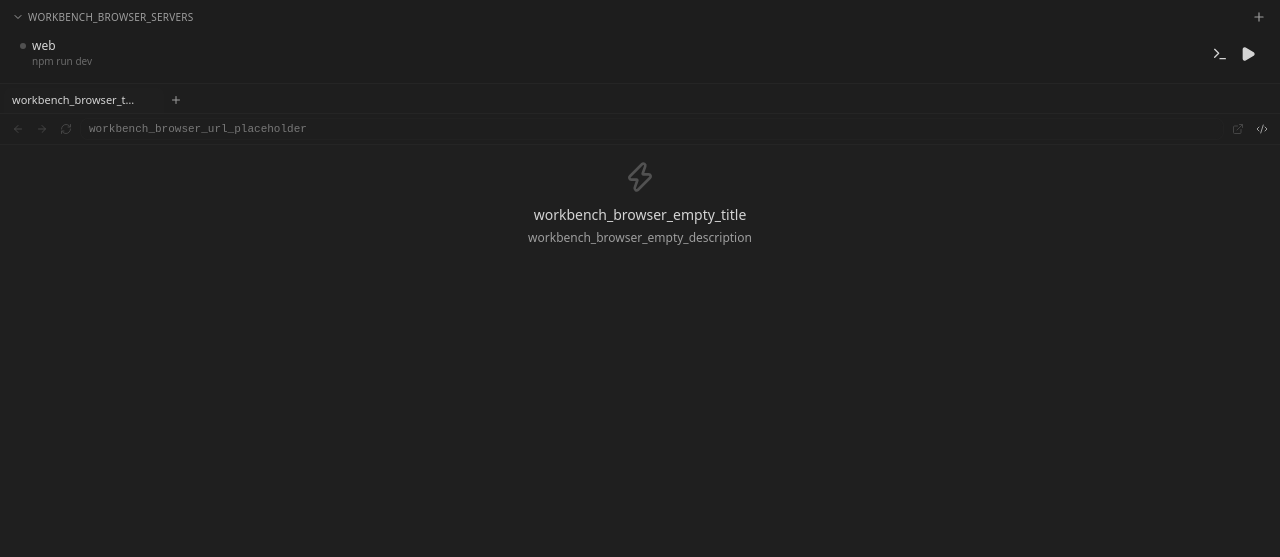
Scenario: BrowserTab — servidores de dev (paridade com o antigo Preview) › servidor nunca iniciado mostra estado vazio específico do console, não erro
The image size is (1280, 557).
Click the button titled "workbench_browser_console": (1220, 54) top-left (1208, 42), bottom-right (1232, 66)
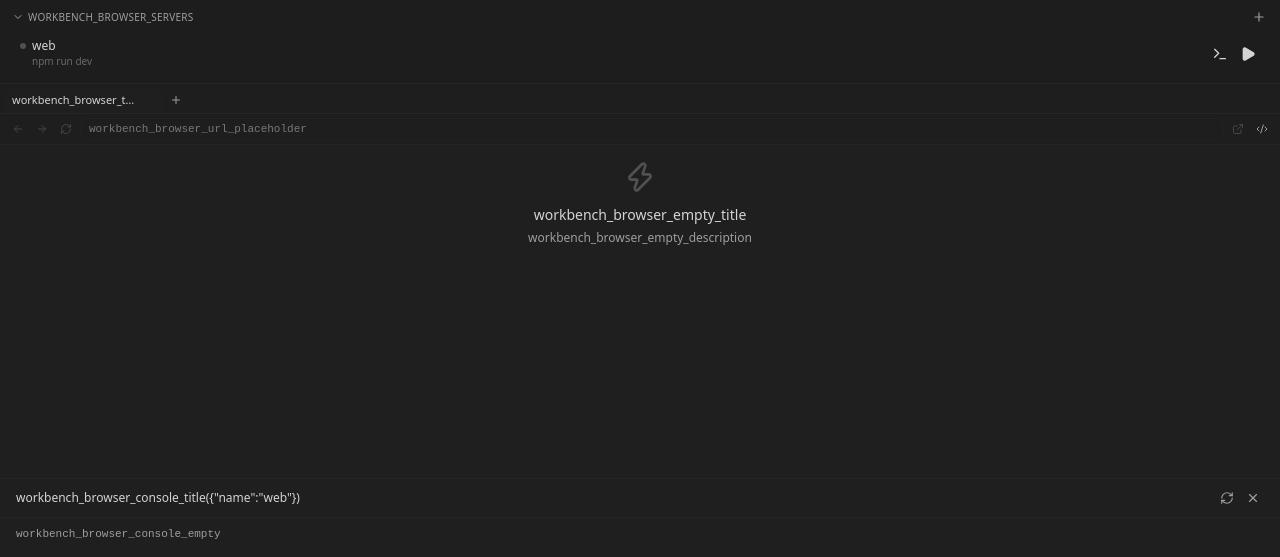
Expected: the text "workbench_browser_console_empty" is shown, top-left (16, 528), bottom-right (221, 540)
